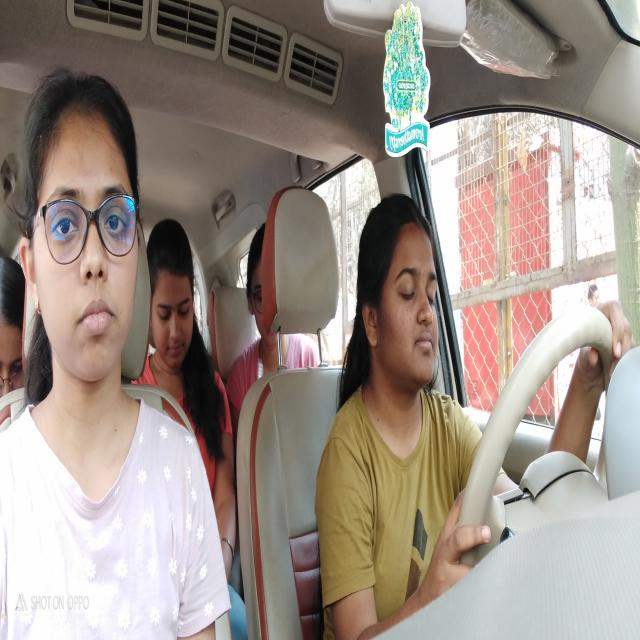drowsy: (355, 185, 445, 402)
person: (15, 62, 145, 389), (148, 221, 198, 370), (242, 222, 284, 352), (0, 244, 27, 402)
